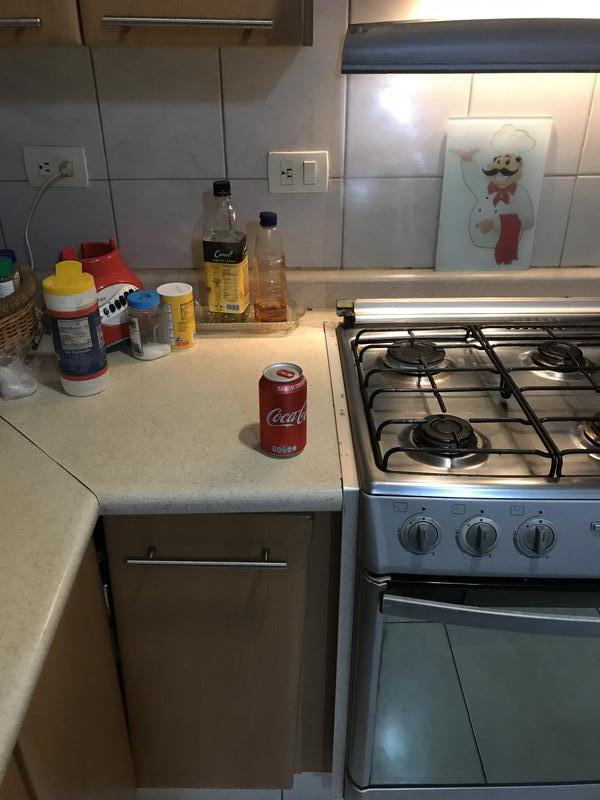coca_cola: (259, 363, 309, 458)
